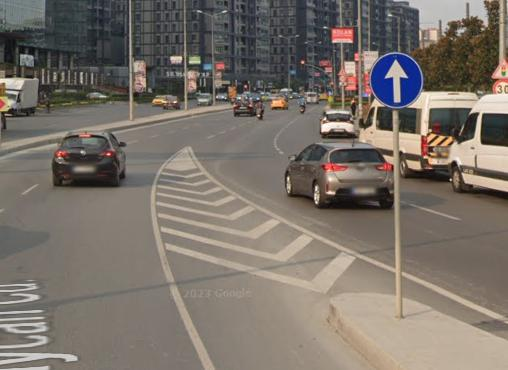forward: (369, 50, 425, 110)
